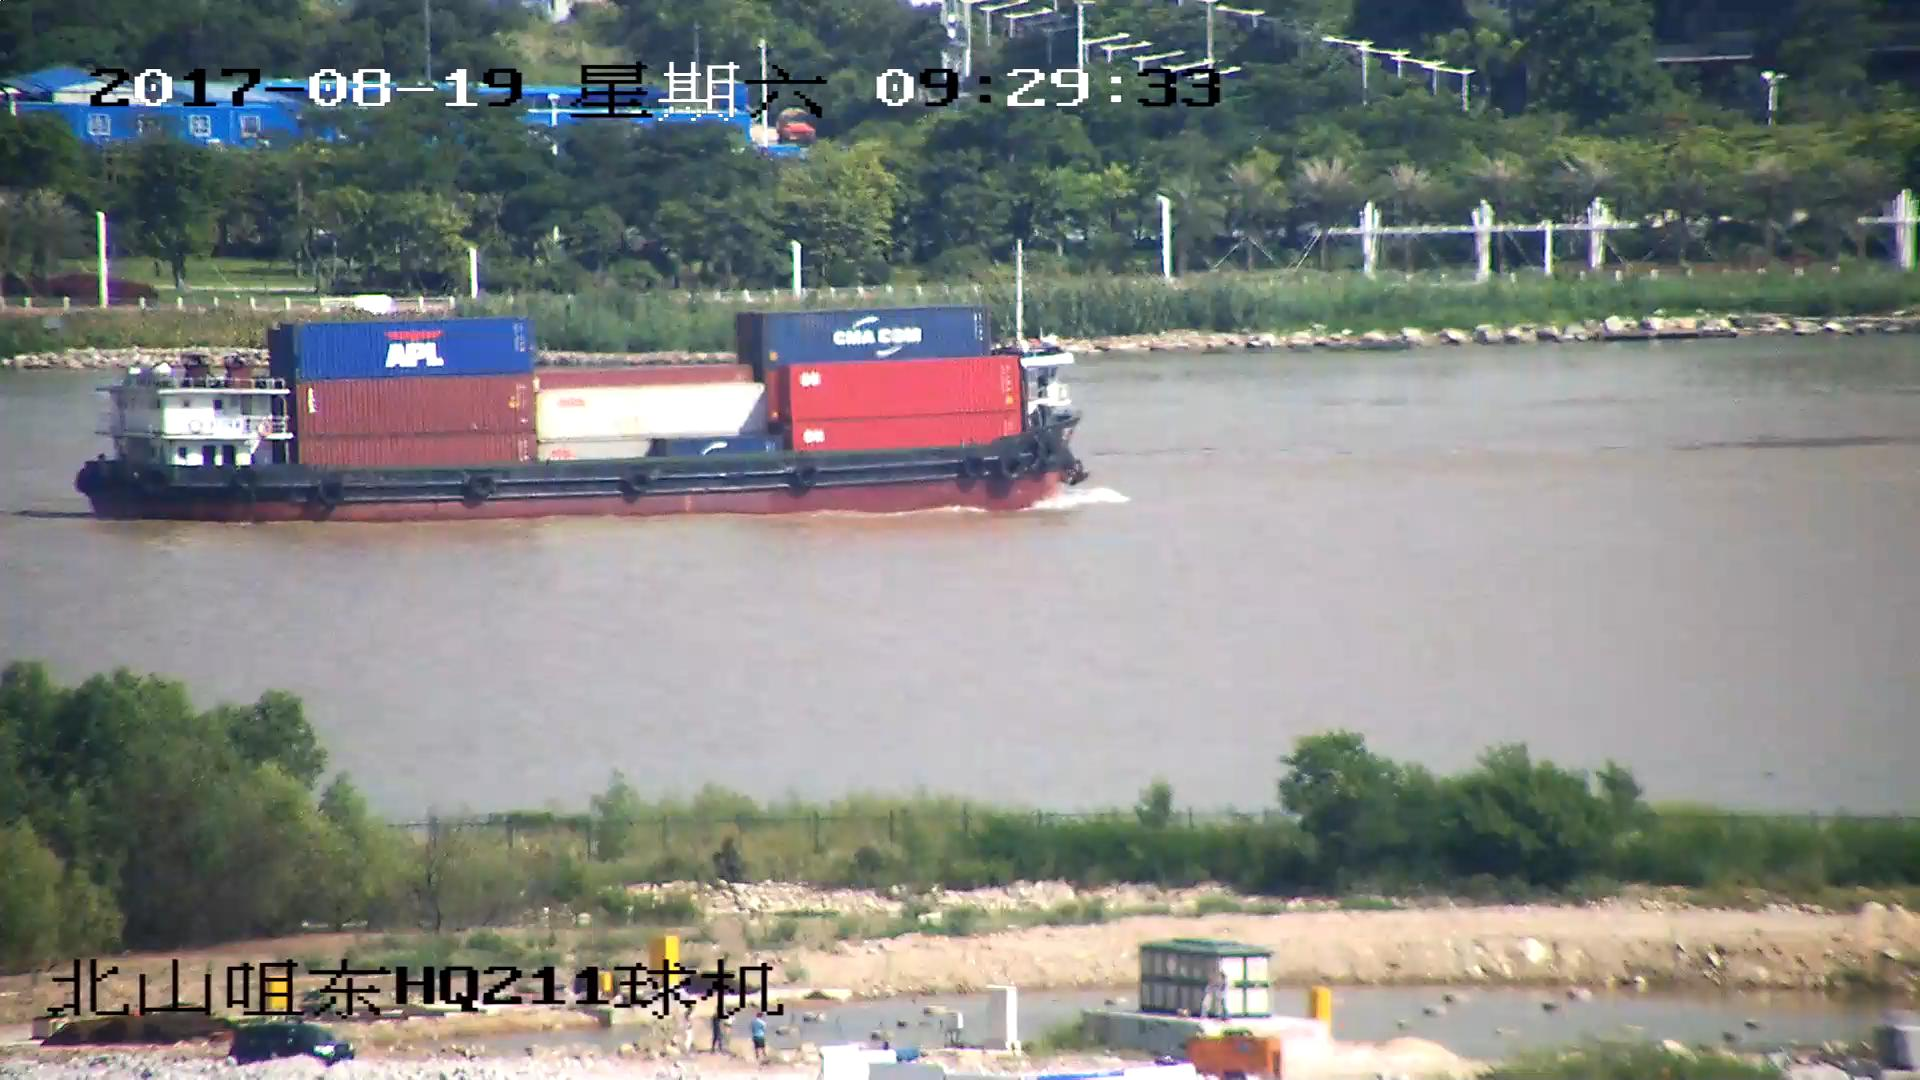container ship: (72, 253, 1103, 521)
